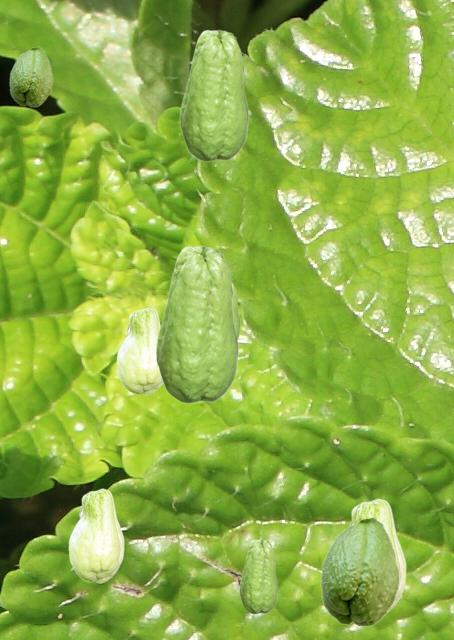sayote: (155, 245, 238, 403), (179, 29, 248, 161), (320, 516, 399, 626), (349, 498, 405, 612), (68, 488, 123, 582), (116, 307, 162, 394), (239, 539, 277, 613), (9, 46, 52, 106), (233, 282, 239, 337)
